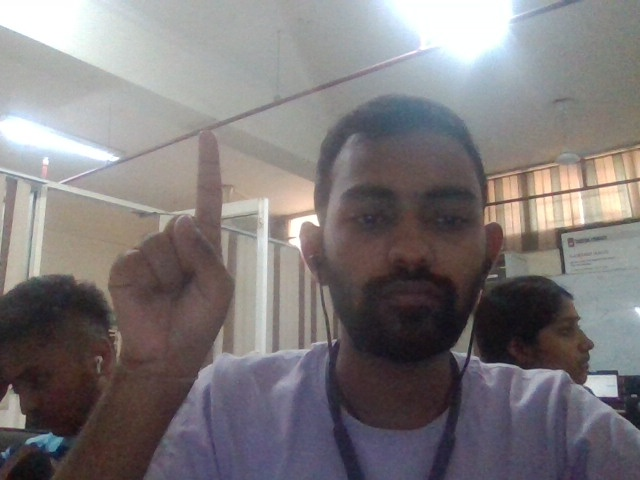Present: (106, 129, 235, 379)
